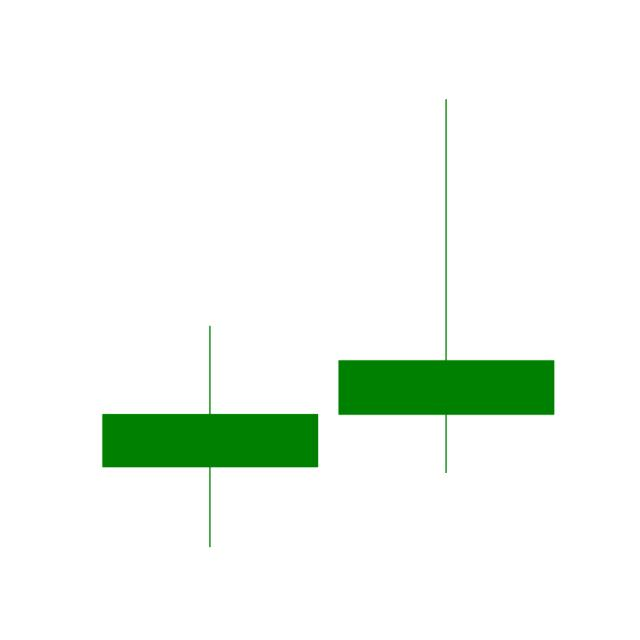Gravenstone Doji: (337, 101, 554, 478)
spinning top: (100, 326, 320, 554)
